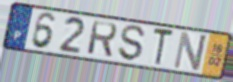2: (58, 15, 88, 55)
6: (30, 11, 58, 51)
N: (171, 30, 209, 73)
R: (85, 20, 119, 60)
S: (117, 24, 147, 63)
T: (152, 26, 176, 67)
